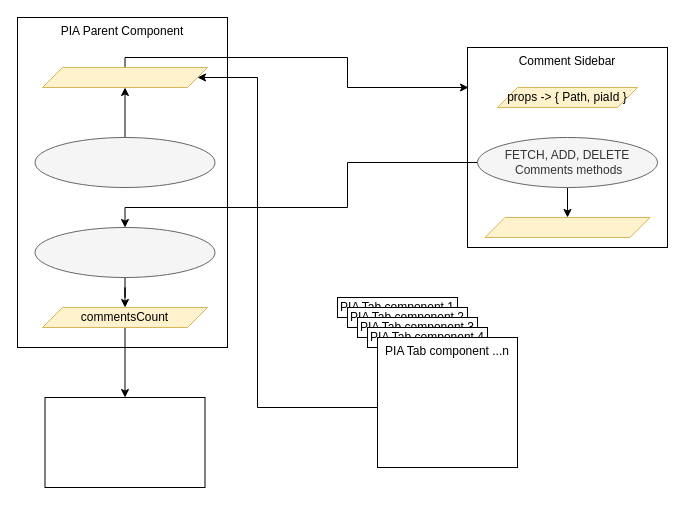
Image size: 685x505. Some labels were removed from this diagram. The centre of each missing label's shape, as x and y in pixels:
"comments" goes at point (567, 227).
"FETCH Comments Count method" goes at point (124, 252).
"On Tab change, setPath = null" goes at point (124, 162).
"selectedCommentPathState" goes at point (125, 77).
"View Comment" goes at point (124, 442).
